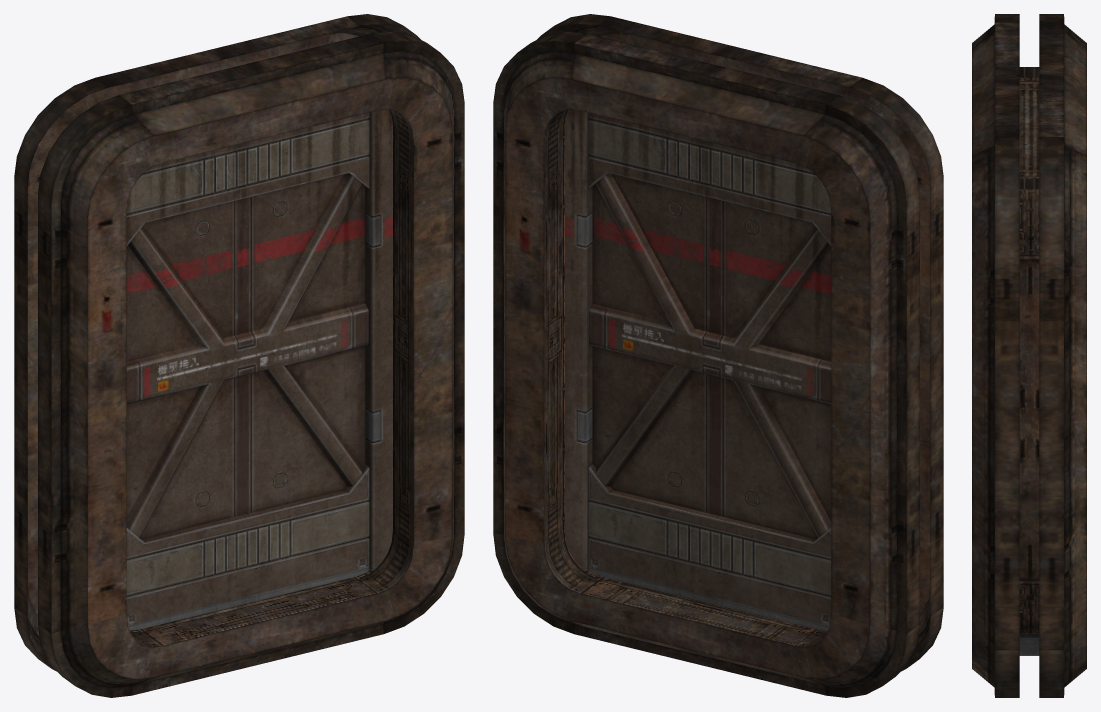
The model's file is slidedoor_theta_tunnels.dae.
3 views of the same model, side by side, from view 1: azimuth 30°, elevation 25°; view 2: azimuth 150°, elevation 25°; view 3: azimuth 270°, elevation 25° (orthographic). The views are drawn at different scales.
Visible parts, largest first — view 1: frame, Mesh; view 2: frame, Mesh; view 3: frame, Mesh.
Boxes of the visible parts, <box> form: frame: <box>14,14,464,697</box>; Mesh: <box>126,109,392,630</box>; frame: <box>493,14,943,697</box>; Mesh: <box>565,109,831,630</box>; frame: <box>972,14,1086,697</box>; Mesh: <box>1019,67,1039,655</box>.
Bounding box in the file's own units: 2.53 × 3.46 × 0.6509.
